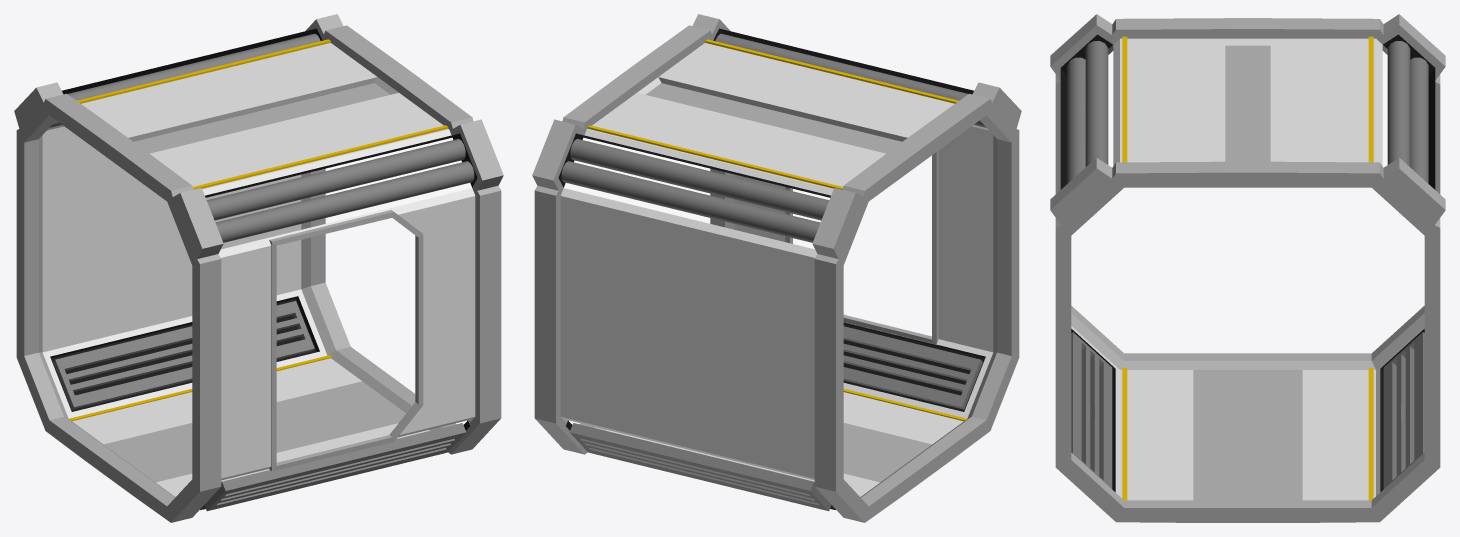
File: Corridor_Room.fbx
The picture shows the model from 3 angles, left to right: view 1: azimuth 30°, elevation 25°; view 2: azimuth 150°, elevation 25°; view 3: azimuth 270°, elevation 25°; orthographic projection. The views are drawn at different scales.
Parts seen in each view (by area): view 1: CouloirChambre, Corridor_Room_Lights; view 2: CouloirChambre, Corridor_Room_Lights; view 3: CouloirChambre, Corridor_Room_Lights.
Boxes of the visible parts, box(x1,y1,x2,y2) form: CouloirChambre: box(14, 14, 503, 522); Corridor_Room_Lights: box(69, 39, 448, 421); CouloirChambre: box(532, 14, 1021, 522); Corridor_Room_Lights: box(587, 39, 966, 421); CouloirChambre: box(1050, 14, 1445, 522); Corridor_Room_Lights: box(1122, 36, 1373, 500).
Bounding box in the file's own units: 400 × 428 × 433.
